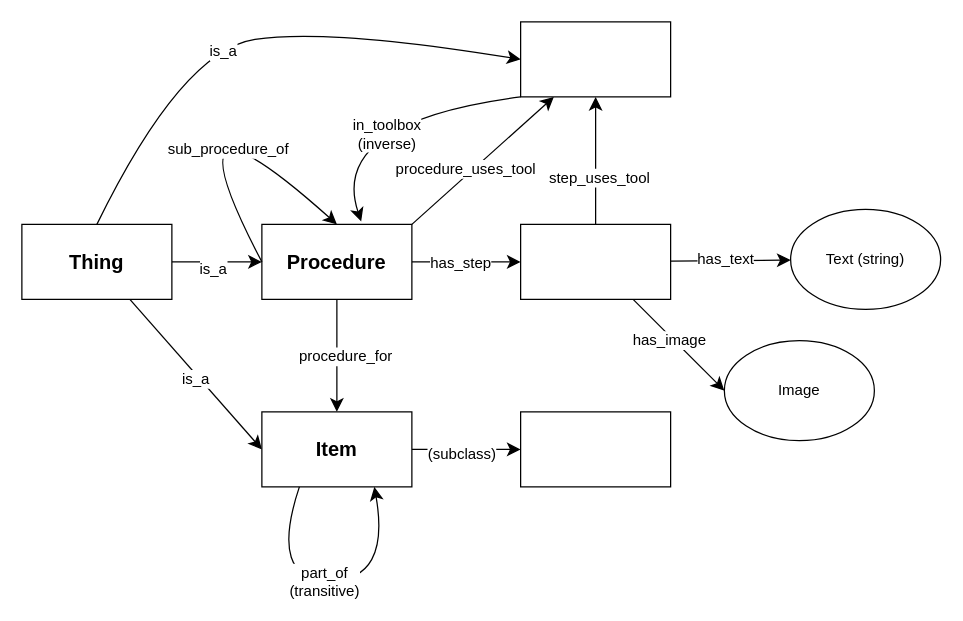
Some shapes in this 963 by 621 pixel diagram are drawn without their labels. Here are the shapes that lost their labels. From the top down, the box of each, then its label:
(519, 21, 671, 97): Tool
(519, 223, 671, 299): Step
(519, 411, 671, 487): Part
